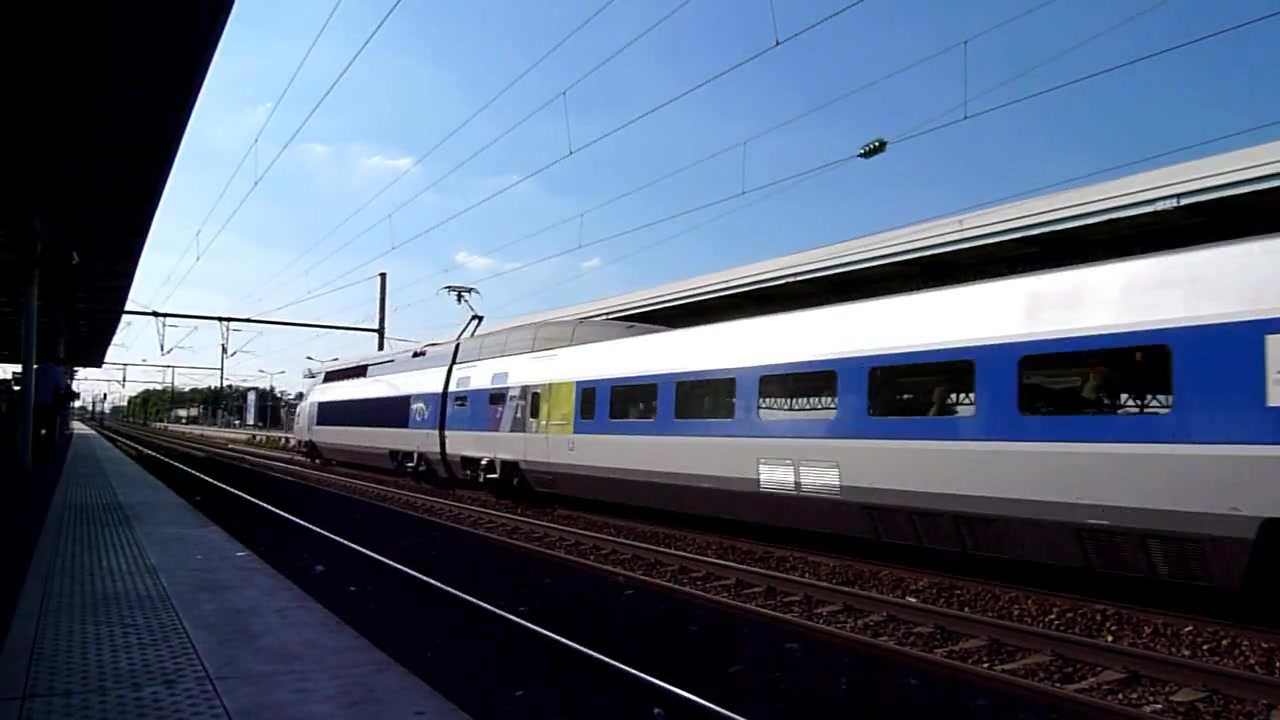train: (289, 142, 1280, 557)
